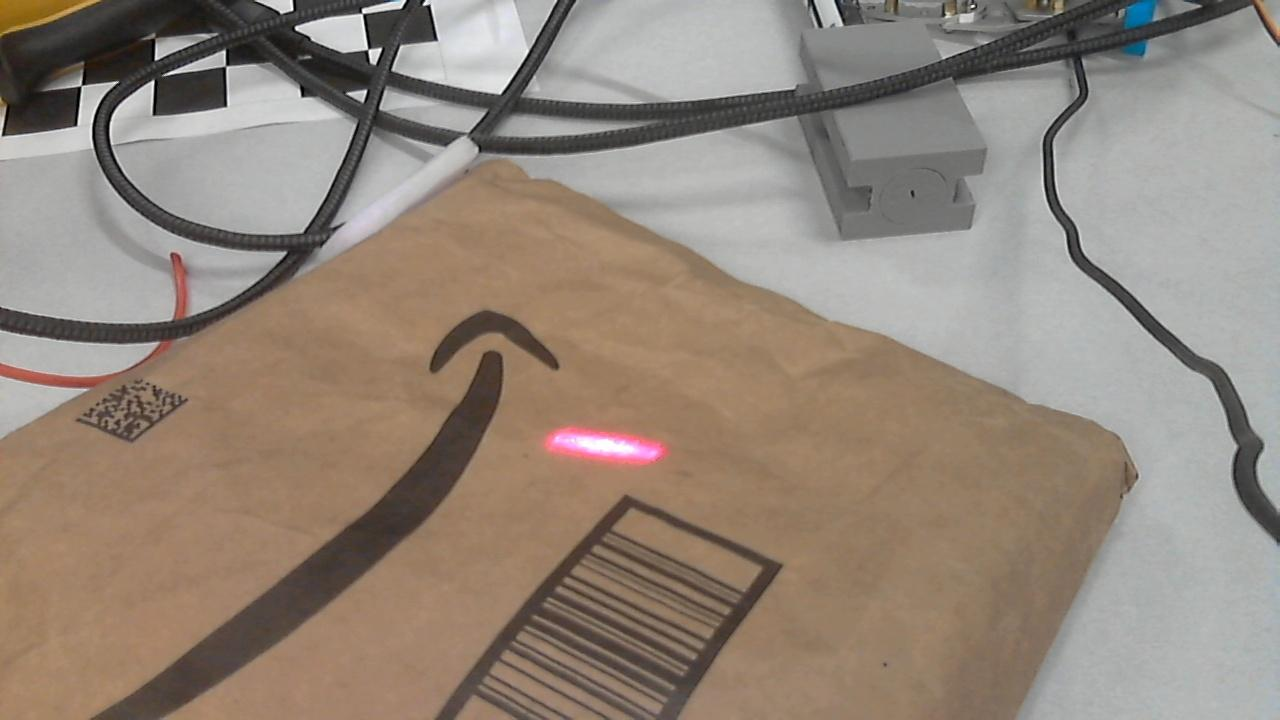Object Amazon recyclable paper mailer - Material paper - Color brown - Pdfname Z: (544, 421, 675, 471)
